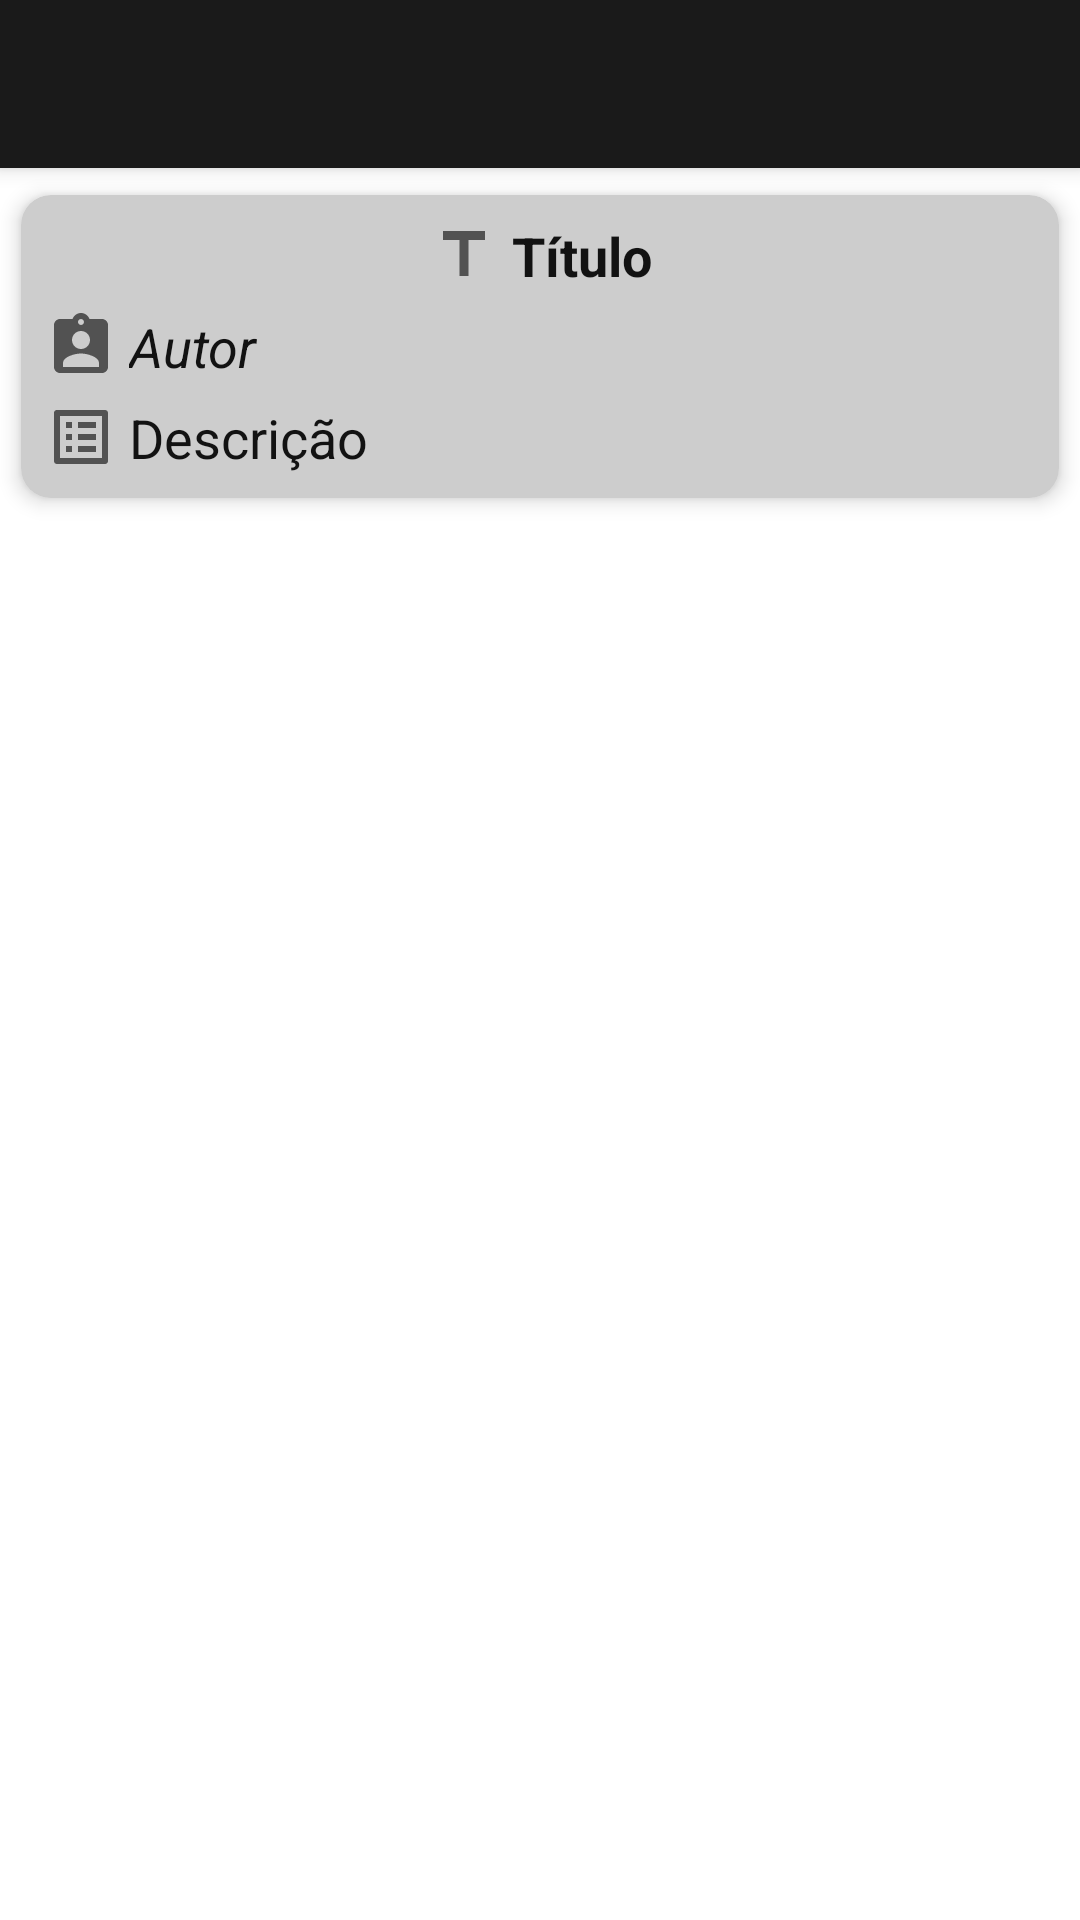

Screen size 1080 × 1920. Icon name, then its box in pixels as detection(x1, y1, x2, y2):
author: detection(54, 313, 108, 373)
description: detection(54, 410, 108, 464)
title: detection(443, 231, 485, 276)
